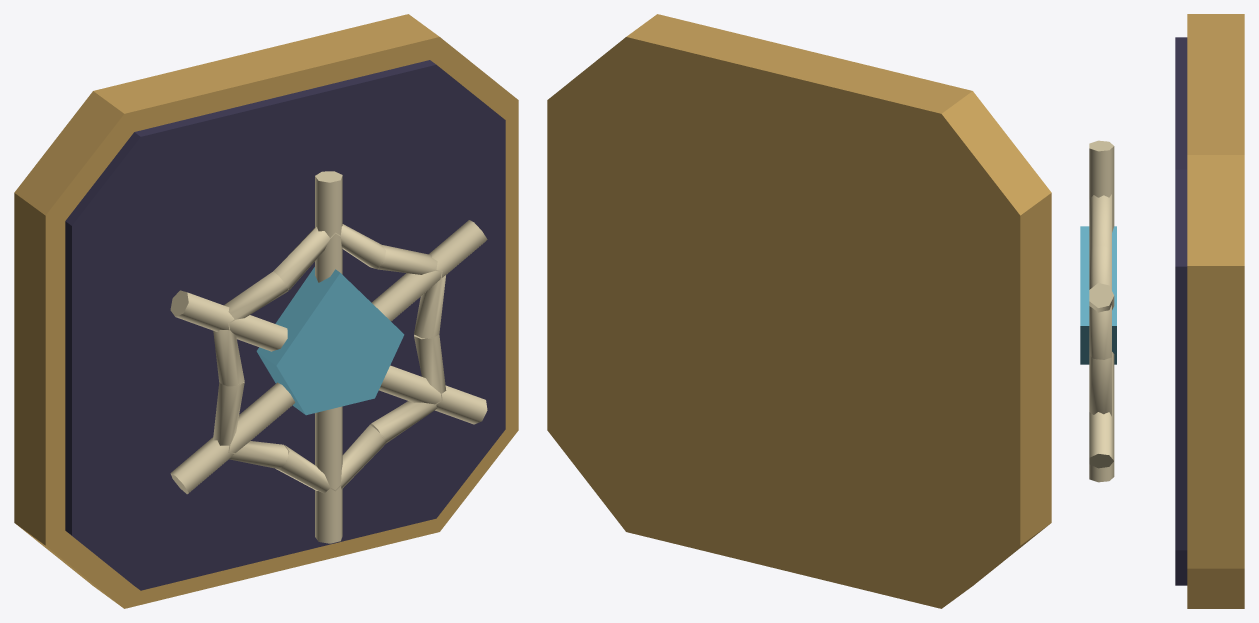
The model's file is freeze.fbx.
3 renders of one model, left to right at view 1: azimuth 30°, elevation 25°; view 2: azimuth 150°, elevation 25°; view 3: azimuth 270°, elevation 25°, orthographic. The views are drawn at different scales.
Parts seen in each view (by area): view 1: freeze; view 2: freeze; view 3: freeze.
Boxes of the visible parts, x1,y1,x2,y2 form: freeze: (14,14,518,608); freeze: (547,14,1051,608); freeze: (1080,14,1244,608).
Size of the model in its own units: 0.96 by 0.96 by 0.315.
